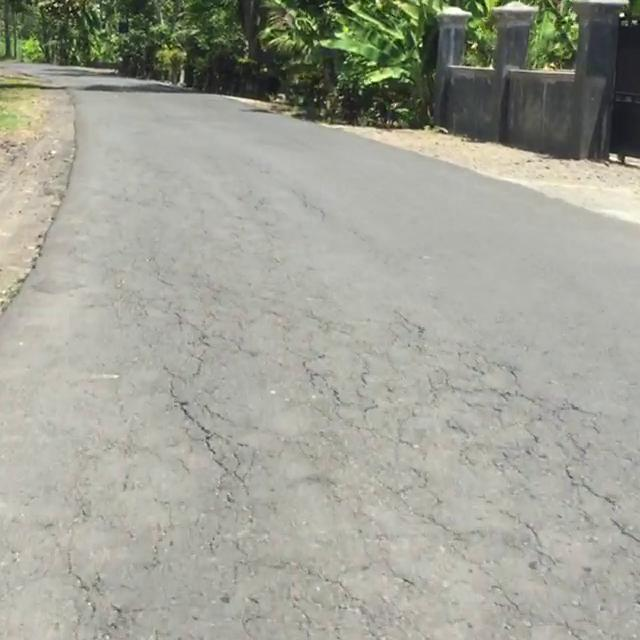retak_kulit_buaya: (326, 311, 570, 499), (141, 317, 274, 513)
